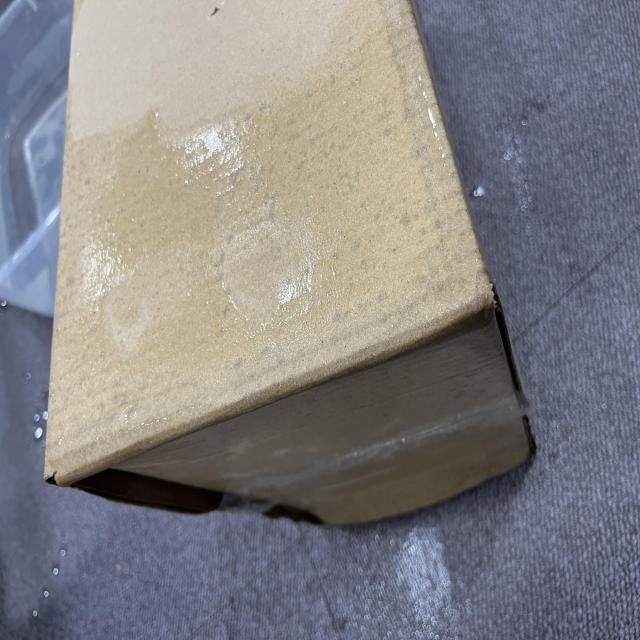wet: (94, 89, 454, 640)
